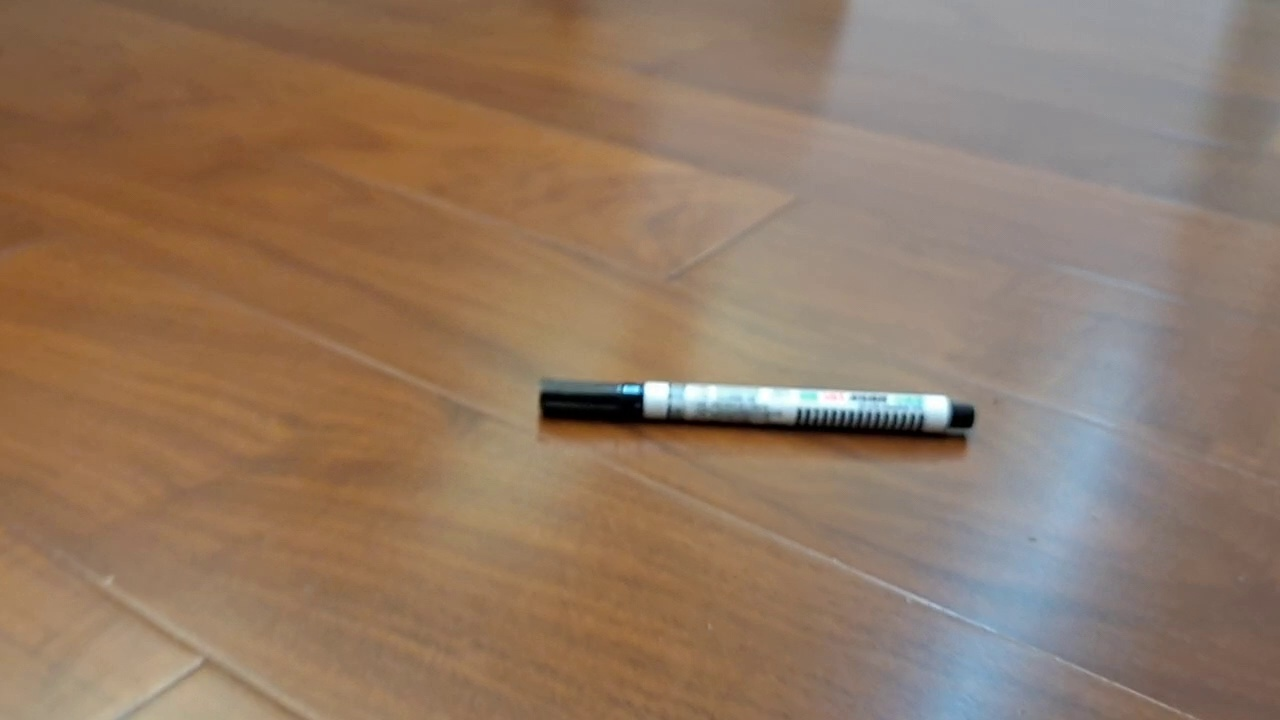pen: (539, 379, 975, 435)
